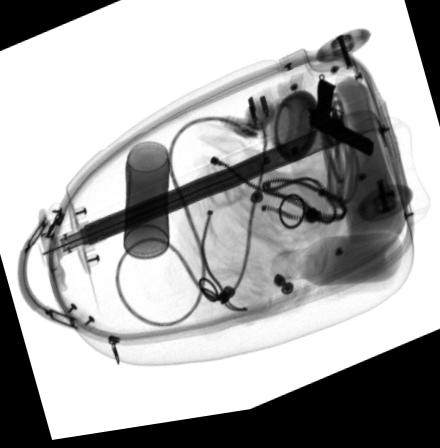Gun: (308, 88, 375, 170)
